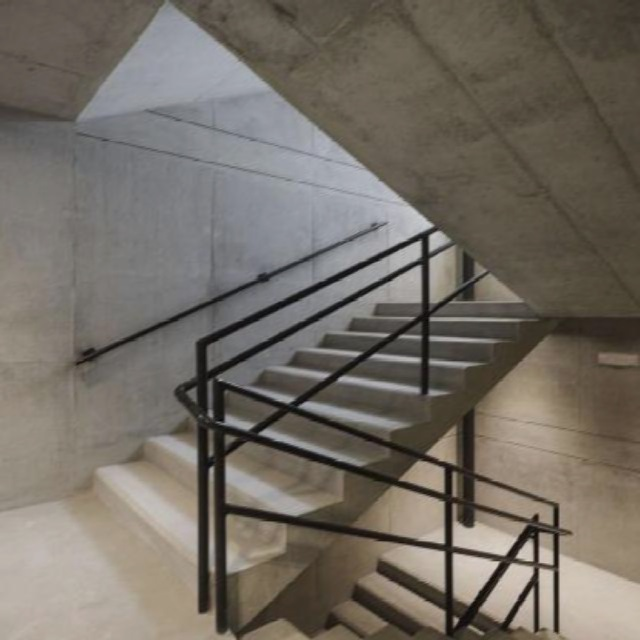stair: (28, 185, 577, 635)
